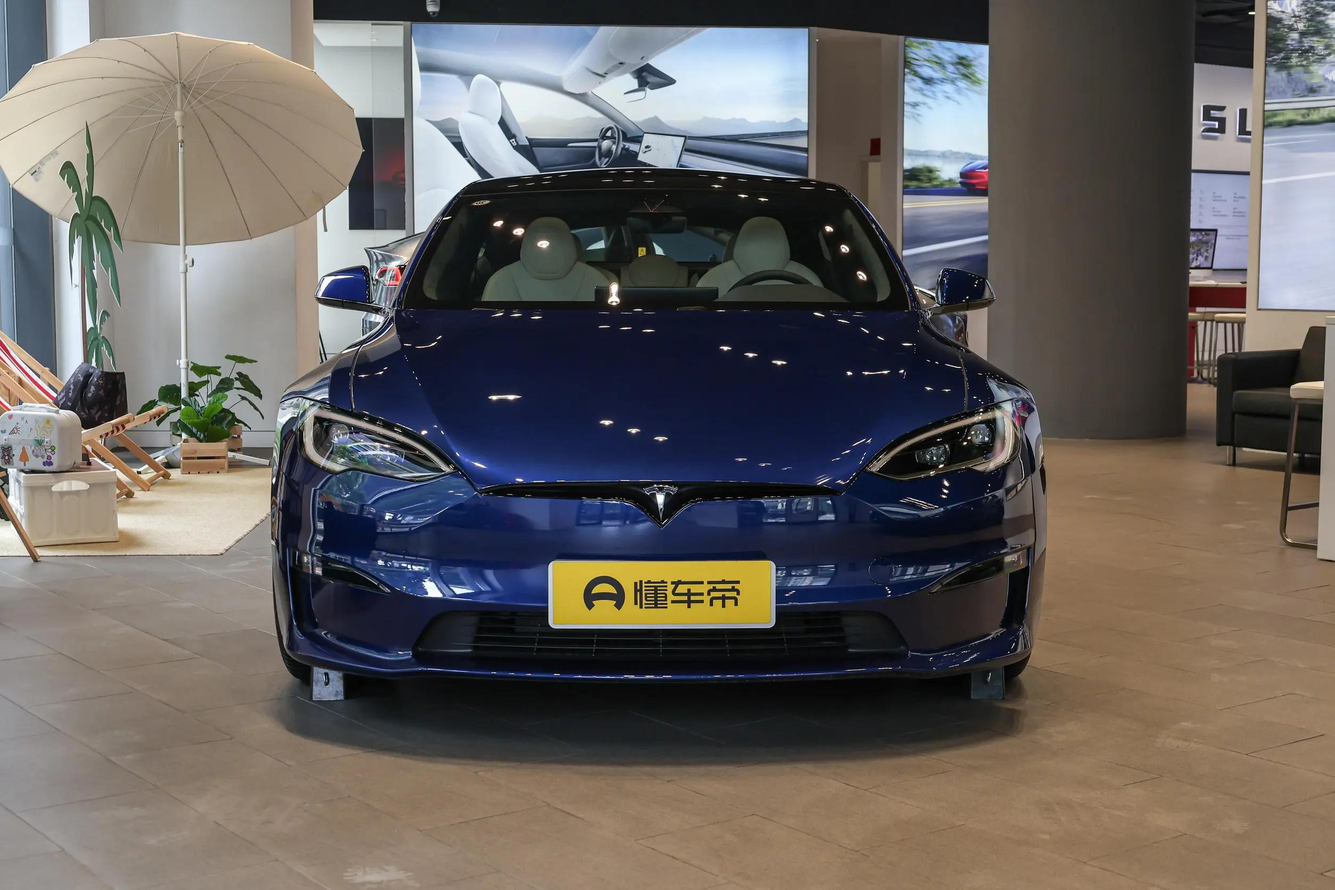Tesla: (641, 483, 678, 524)
